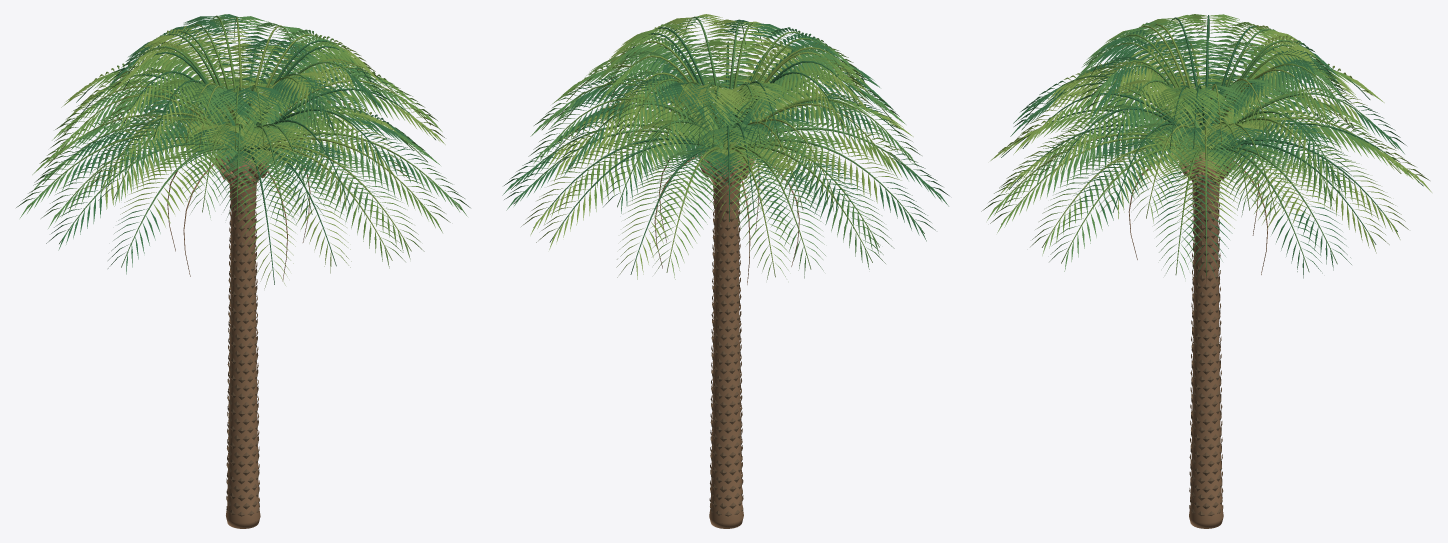
File: date-palm.glb
The picture shows the model from 3 angles, left to right: view 1: azimuth 30°, elevation 25°; view 2: azimuth 150°, elevation 25°; view 3: azimuth 270°, elevation 25°; orthographic projection.
Parts seen in each view (by area): view 1: date-palm / Date palm / fronds 3, date-palm / Date palm / fronds 1, date-palm / Date palm / fronds 2, date-palm / Date palm / fronds 0, date-palm / Date palm / warm fibrous bark, date-palm / Date palm / old diamond leaf scars; view 2: date-palm / Date palm / fronds 1, date-palm / Date palm / fronds 0, date-palm / Date palm / fronds 2, date-palm / Date palm / fronds 3, date-palm / Date palm / warm fibrous bark, date-palm / Date palm / old diamond leaf scars; view 3: date-palm / Date palm / fronds 0, date-palm / Date palm / fronds 2, date-palm / Date palm / fronds 1, date-palm / Date palm / fronds 3, date-palm / Date palm / warm fibrous bark, date-palm / Date palm / old diamond leaf scars.
Part boxes in pixels (left/top/right/bottom): date-palm / Date palm / fronds 3: left=46, top=14, right=435, bottom=284; date-palm / Date palm / fronds 1: left=28, top=15, right=461, bottom=268; date-palm / Date palm / fronds 2: left=44, top=17, right=445, bottom=288; date-palm / Date palm / fronds 0: left=16, top=14, right=470, bottom=267; date-palm / Date palm / warm fibrous bark: left=167, top=155, right=310, bottom=528; date-palm / Date palm / old diamond leaf scars: left=226, top=190, right=259, bottom=523; date-palm / Date palm / fronds 1: left=540, top=22, right=910, bottom=279; date-palm / Date palm / fronds 0: left=511, top=16, right=941, bottom=278; date-palm / Date palm / fronds 2: left=521, top=14, right=913, bottom=279; date-palm / Date palm / fronds 3: left=502, top=16, right=949, bottom=274; date-palm / Date palm / warm fibrous bark: left=654, top=147, right=799, bottom=528; date-palm / Date palm / old diamond leaf scars: left=709, top=189, right=743, bottom=523; date-palm / Date palm / fronds 0: left=1021, top=21, right=1396, bottom=278; date-palm / Date palm / fronds 2: left=990, top=16, right=1431, bottom=253; date-palm / Date palm / fronds 1: left=981, top=14, right=1411, bottom=274; date-palm / Date palm / fronds 3: left=1001, top=15, right=1423, bottom=281; date-palm / Date palm / warm fibrous bark: left=1128, top=145, right=1267, bottom=528; date-palm / Date palm / old diamond leaf scars: left=1189, top=188, right=1223, bottom=515.
Bounding box in the file's own units: 13.59 × 16.01 × 14.04.
